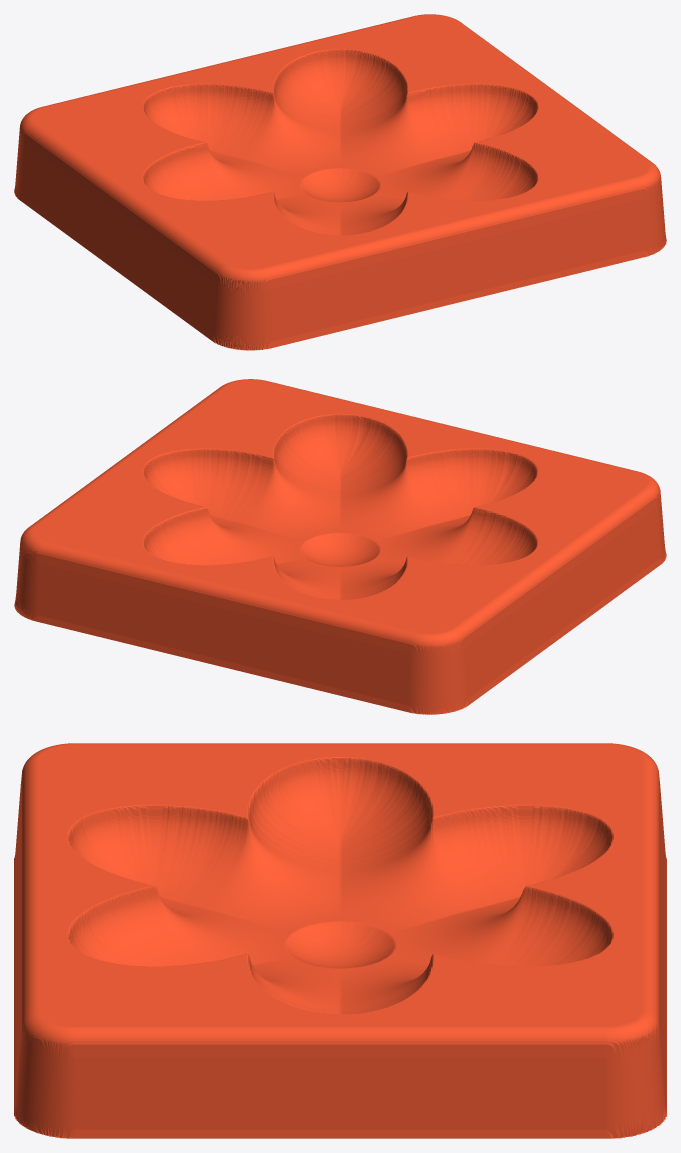
File: mold.glb
The picture shows the model from 3 angles, top to bottom: view 1: azimuth 30°, elevation 25°; view 2: azimuth 150°, elevation 25°; view 3: azimuth 270°, elevation 25°; orthographic projection. The views are drawn at different scales.
Visible parts, largest first — view 1: geometry_0; view 2: geometry_0; view 3: geometry_0.
Part boxes in pixels (x1,y1,x2,y2): geometry_0: (14,14,666,350); geometry_0: (14,379,666,714); geometry_0: (14,743,666,1138).
Bounding box in the file's own units: 0.105 × 0.0165 × 0.0958.
